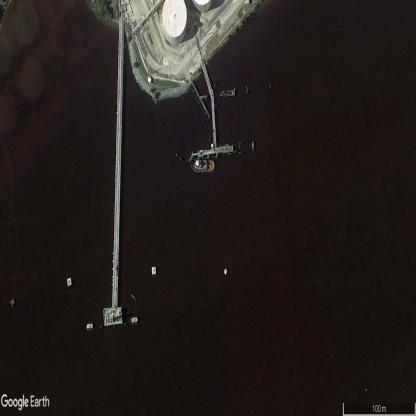ship: (192, 159, 215, 172)
